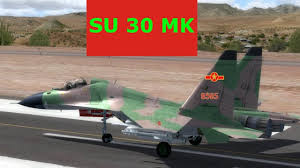maybay_muctieu: (23, 51, 283, 155)
